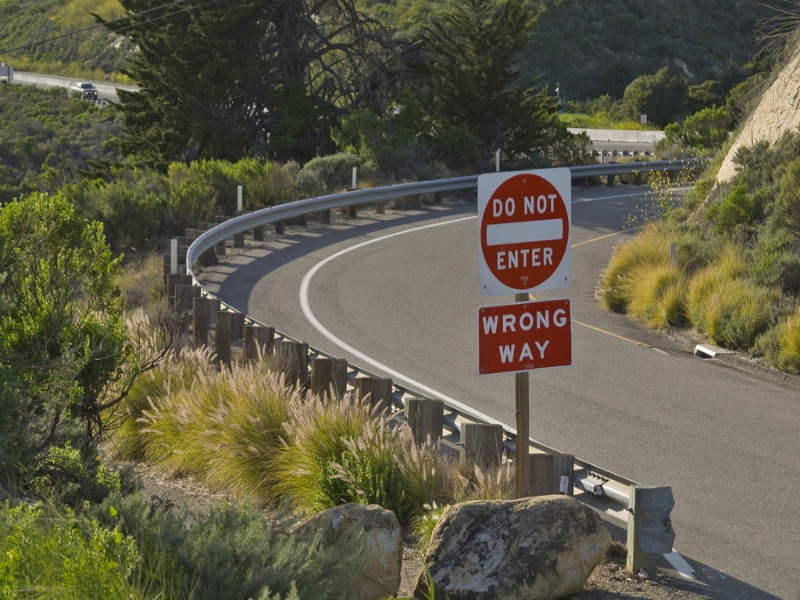no_entry: (477, 169, 597, 288)
wrong_way: (476, 303, 594, 381)
